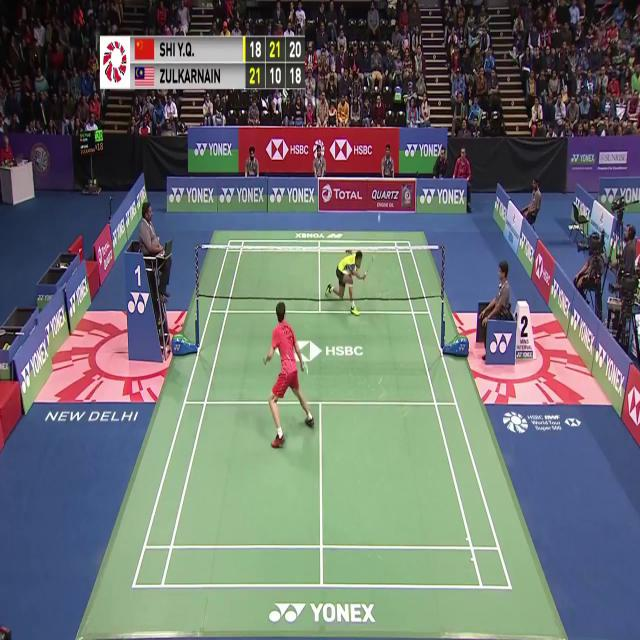Shuttlecock: (375, 211, 382, 223)
